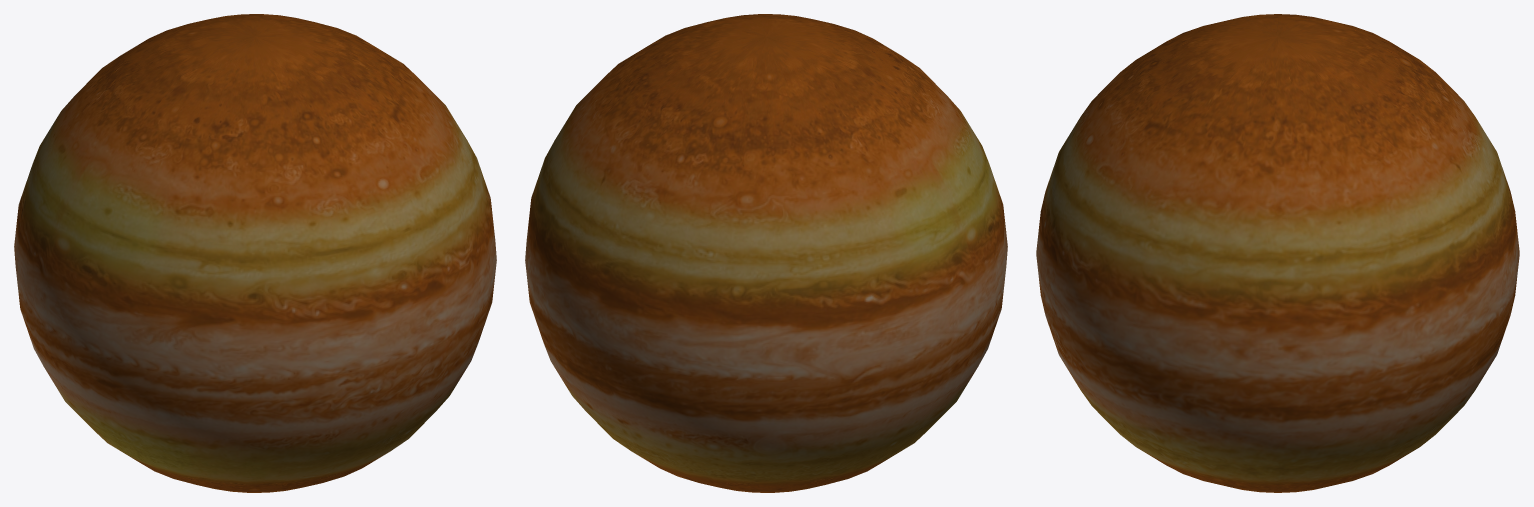
Rendered from planet-10.glb.
3 renders of one model, left to right at view 1: azimuth 30°, elevation 25°; view 2: azimuth 150°, elevation 25°; view 3: azimuth 270°, elevation 25°, orthographic.
Parts seen in each view (by area): view 1: Wasp12b; view 2: Wasp12b; view 3: Wasp12b.
Part boxes in pixels (x1=…): Wasp12b: x1=14, y1=14, x2=496, y2=492; Wasp12b: x1=525, y1=14, x2=1007, y2=492; Wasp12b: x1=1036, y1=14, x2=1519, y2=492.
Size of the model in its own units: 1.01 by 1 by 1.01.
Materials: 1 (1 with a texture image).
